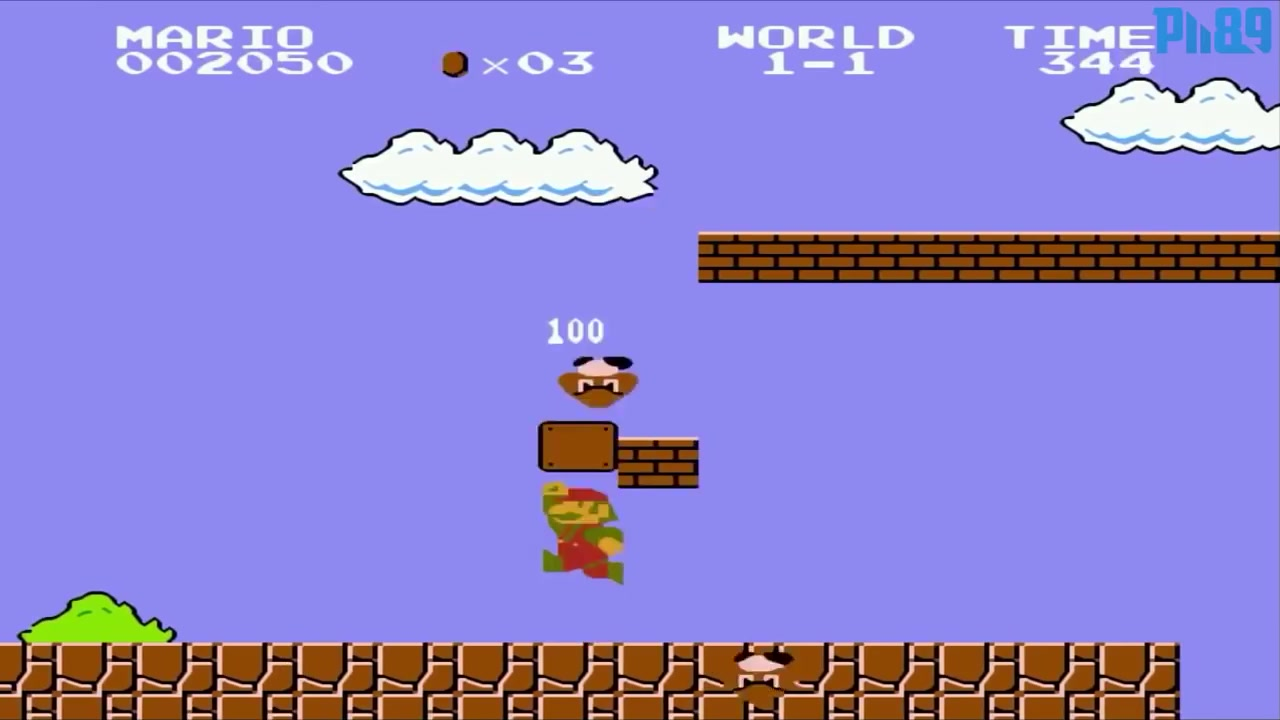mario: (526, 479, 636, 597)
